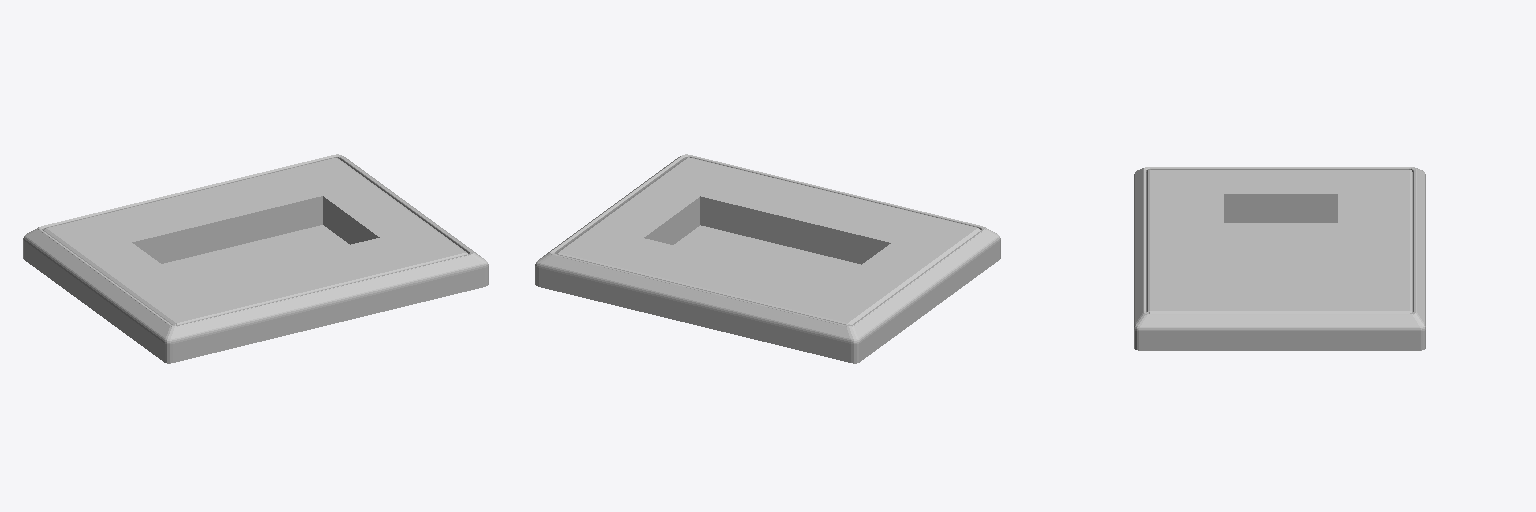
File: table2.obj
The picture shows the model from 3 angles: view 1: azimuth 30°, elevation 25°; view 2: azimuth 150°, elevation 25°; view 3: azimuth 270°, elevation 25°; orthographic projection.
Visible parts, largest first — view 1: Cube.002; view 2: Cube.002; view 3: Cube.002.
Part boxes in pixels (x1,y1,x2,y2): Cube.002: (23,154,488,363); Cube.002: (535,154,1000,363); Cube.002: (1134,167,1425,350).
Size of the model in its own units: 117 by 10.88 by 91.72.